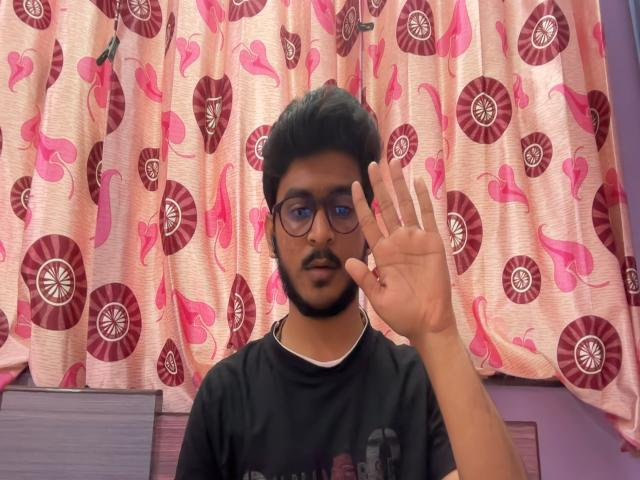Hello: (340, 154, 471, 349)
